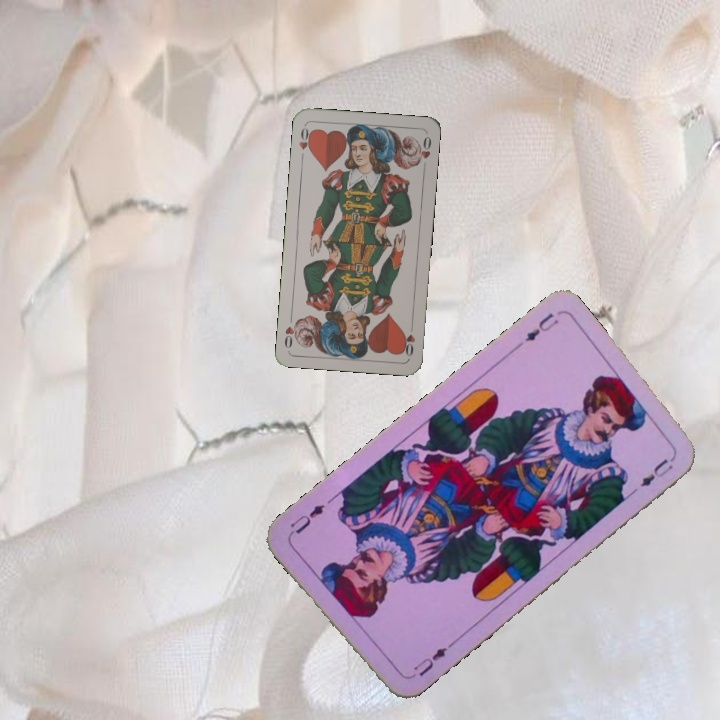EU: (405, 639, 455, 682), (521, 308, 562, 345)
HO: (295, 122, 315, 163), (399, 319, 417, 359)
